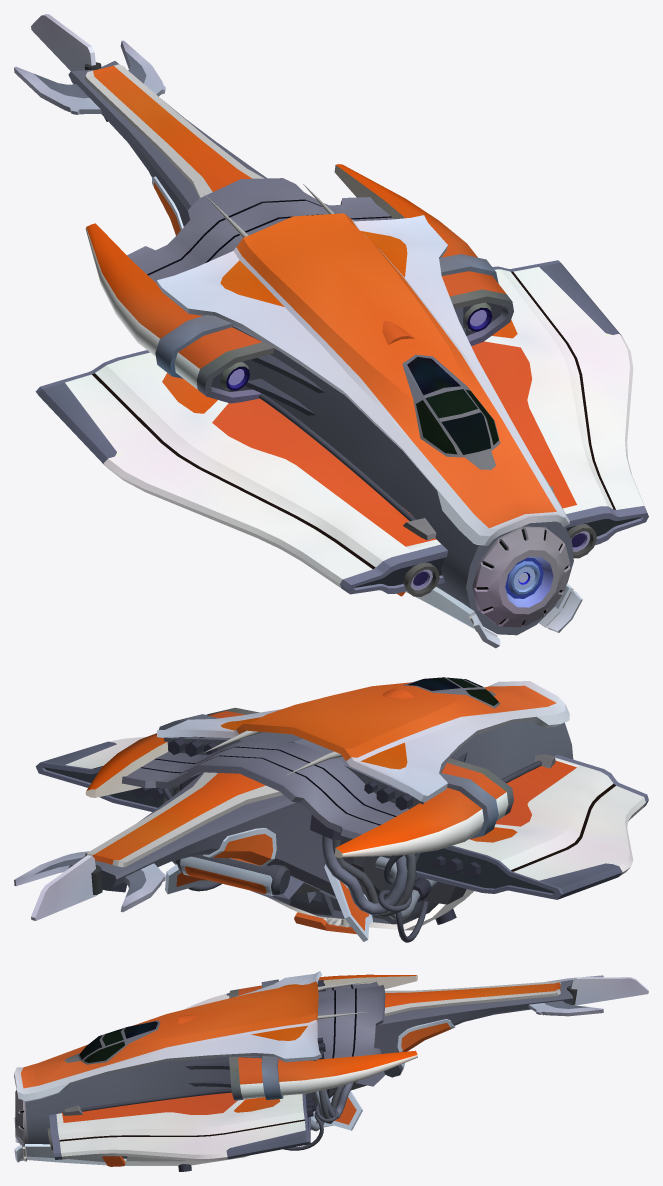
Rendered from SUP_spaceship_draft.glb.
3 renders of one model, top to bottom at view 1: azimuth 30°, elevation 25°; view 2: azimuth 150°, elevation 25°; view 3: azimuth 270°, elevation 25°, orthographic. The views are drawn at different scales.
Parts seen in each view (by area): view 1: SUP_spaceship_draft; view 2: SUP_spaceship_draft; view 3: SUP_spaceship_draft.
Part boxes in pixels (left/top/right/bottom): SUP_spaceship_draft: left=14, top=14, right=648, bottom=648; SUP_spaceship_draft: left=14, top=677, right=648, bottom=942; SUP_spaceship_draft: left=14, top=971, right=648, bottom=1171.
Size of the model in its own units: 845 by 438 by 1383.
Materials: 1 (1 with a texture image).
